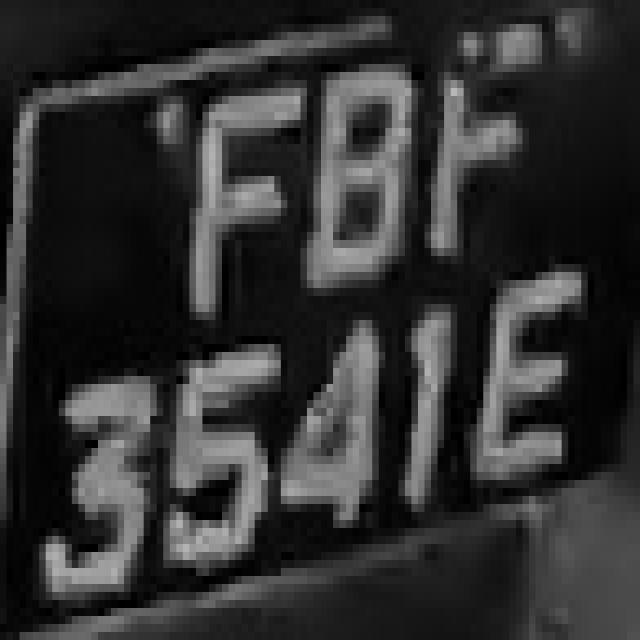1: (379, 272, 457, 528)
3: (39, 344, 157, 592)
4: (268, 320, 392, 536)
5: (163, 320, 281, 560)
B: (294, 56, 424, 296)
E: (464, 248, 594, 496)
F: (170, 80, 307, 328), (425, 8, 542, 256)
